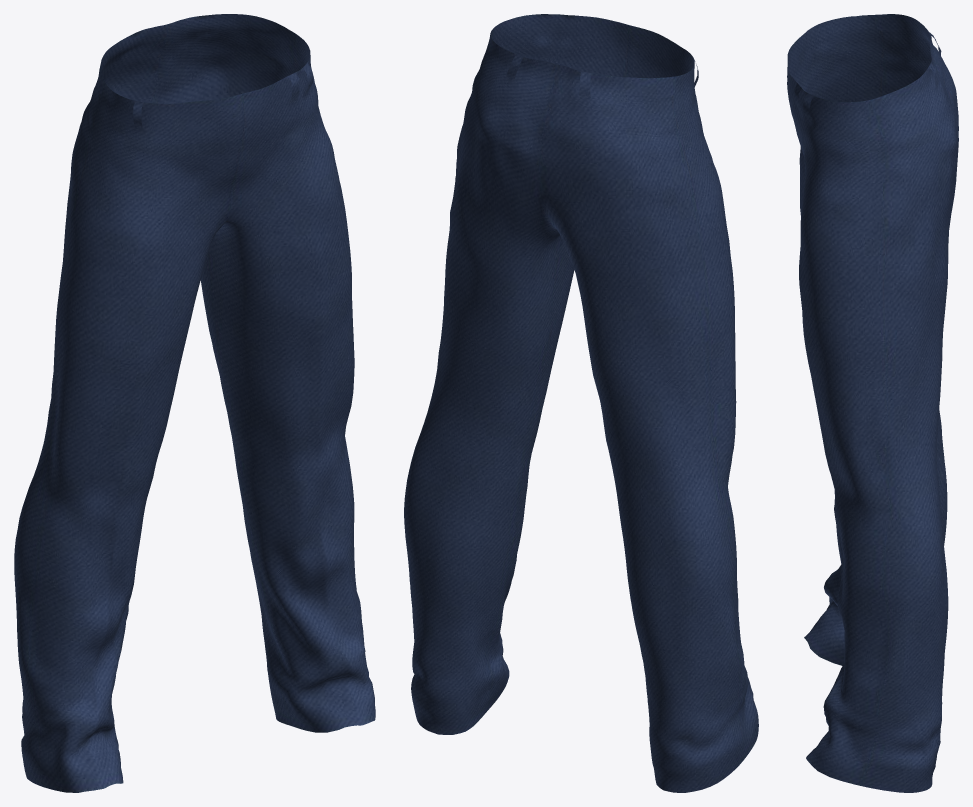
The model's file is jeans-darkwash.glb.
3 renders of one model, left to right at view 1: azimuth 30°, elevation 25°; view 2: azimuth 150°, elevation 25°; view 3: azimuth 270°, elevation 25°, orthographic. The views are drawn at different scales.
Parts seen in each view (by area): view 1: trousers-charcoal; view 2: trousers-charcoal; view 3: trousers-charcoal.
Part boxes in pixels (bbox=[...]): trousers-charcoal: bbox=[14, 14, 375, 792]; trousers-charcoal: bbox=[404, 14, 758, 792]; trousers-charcoal: bbox=[787, 14, 958, 792].
Size of the model in its own units: 0.5403 by 1.12 by 0.2559.
1 material, 1 textured.
